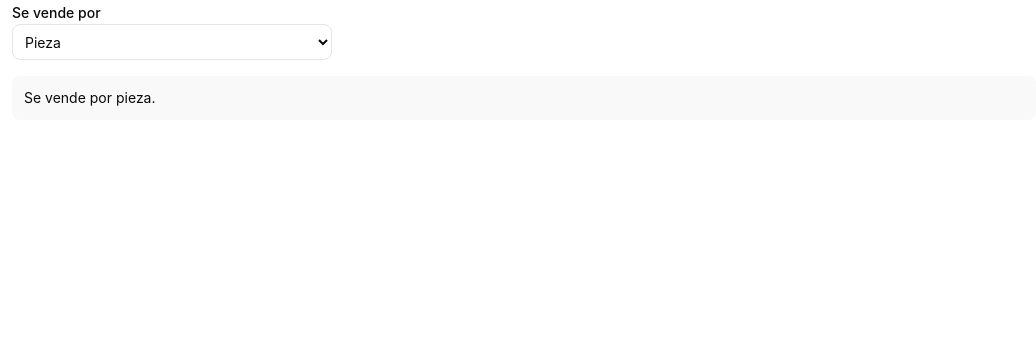
Test: SalesUnitFields › reports an off-grid minimum and recovers when fixed
This screenshot has width=1036, height=357.
Select "Metro (listones y cintas)" in the dropdown labelled "Se vende por" at x=172, y=42, box [12,24,332,60]
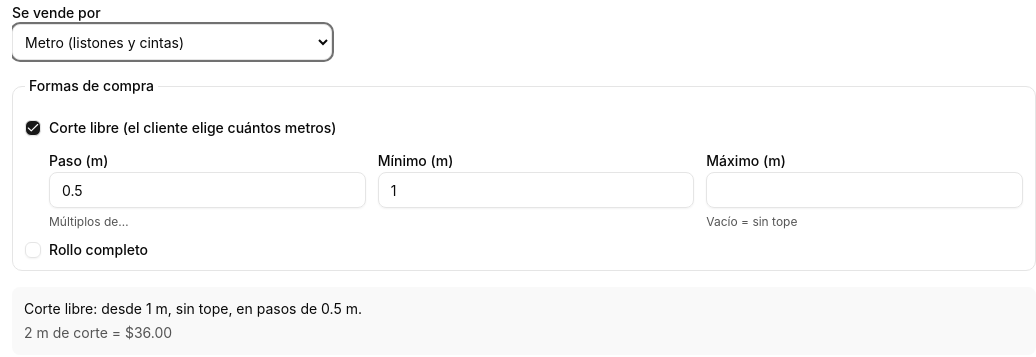
Replace the text in the field labelled "Mínimo (m)" with "1.2" at x=536, y=190, box [378,172,694,208]
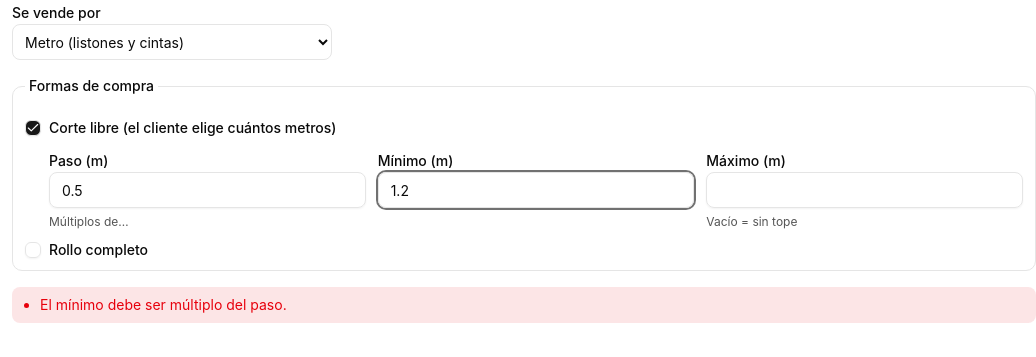
Expected: the message shows "múltiplo del paso", [40,296,287,313]
Replace the text in the field labelled "Mínimo (m)" with "1.5" at x=536, y=190, box [378,172,694,208]
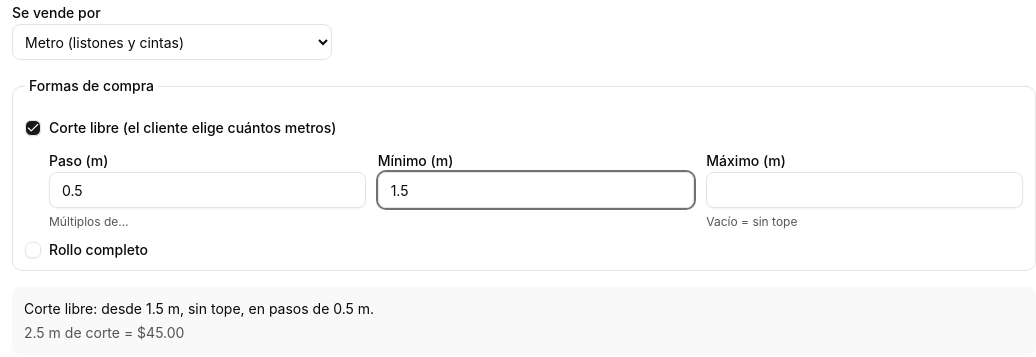
Expected: the message "El mínimo debe ser un número mayor que cero." is gone
